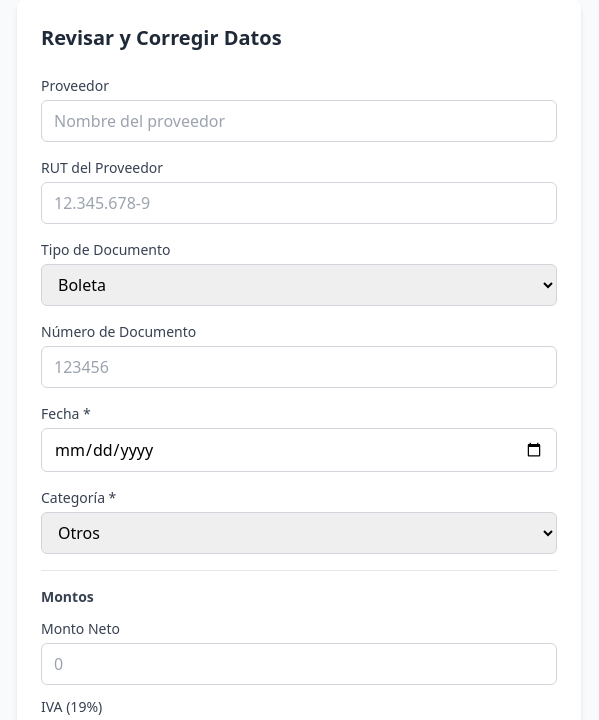
InvoiceForm › validates RUT in real-time
# Enter invalid RUT
Type "12.345.678-0" into the field labelled "RUT del Proveedor" at (299, 203), box [41,182,557,224]
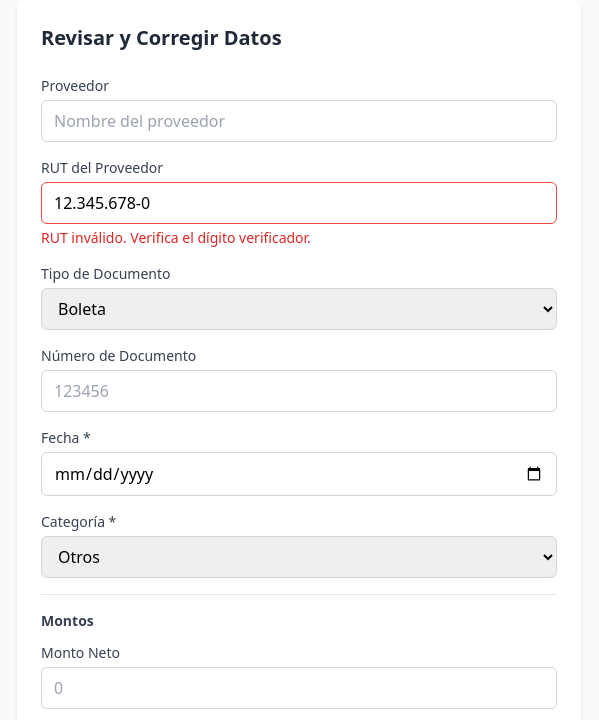
expect the text "RUT inválido. Verifica el dígito verificador." is shown: met, box [41,228,311,247]
# Enter valid RUT
Replace the text in the field labelled "RUT del Proveedor" with "12.345.678-5" at (299, 203), box [41,182,557,224]
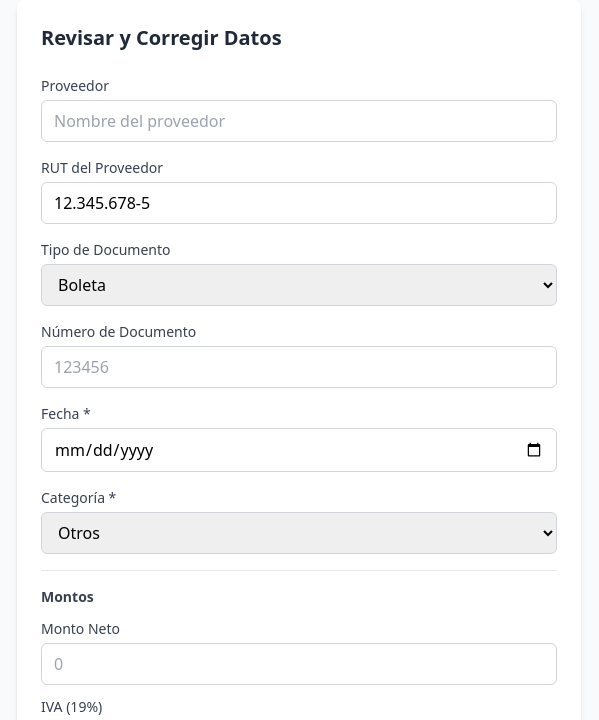
expect the text "RUT inválido" is gone: met
